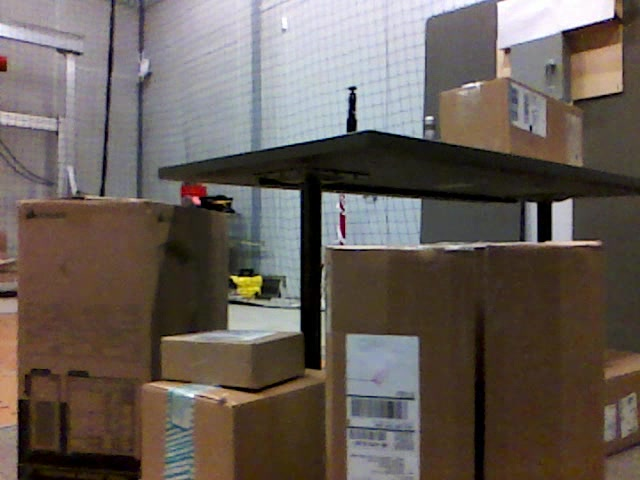box: (326, 244, 606, 480), (17, 200, 229, 479), (140, 381, 325, 480), (440, 78, 584, 164), (162, 333, 304, 391), (604, 346, 640, 461)
